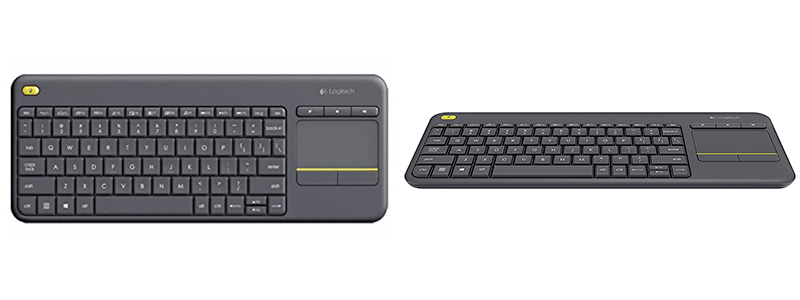logitech-keyboard-k400: (11, 75, 384, 224), (405, 108, 792, 193)
